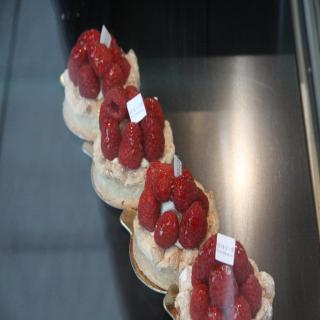Strawberry: (170, 172, 197, 216)
